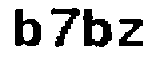7w: (50, 4, 80, 50)
b: (81, 6, 112, 51), (14, 8, 45, 51)
z: (117, 17, 149, 50)
